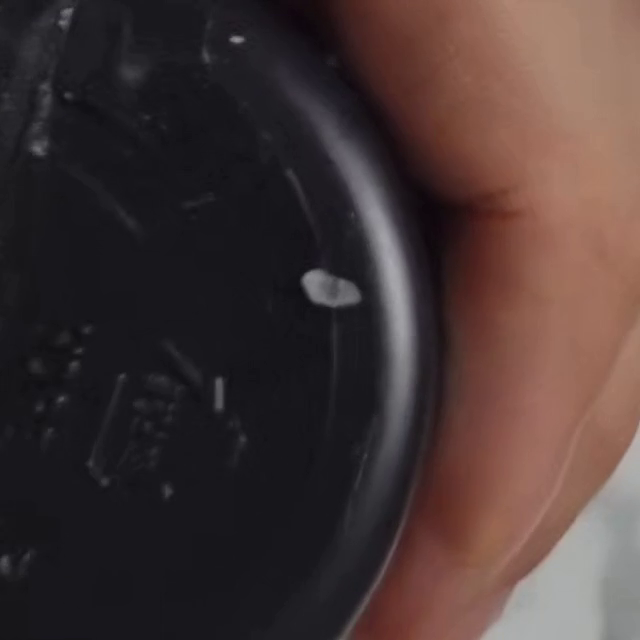Plastic: (86, 329, 250, 503)
